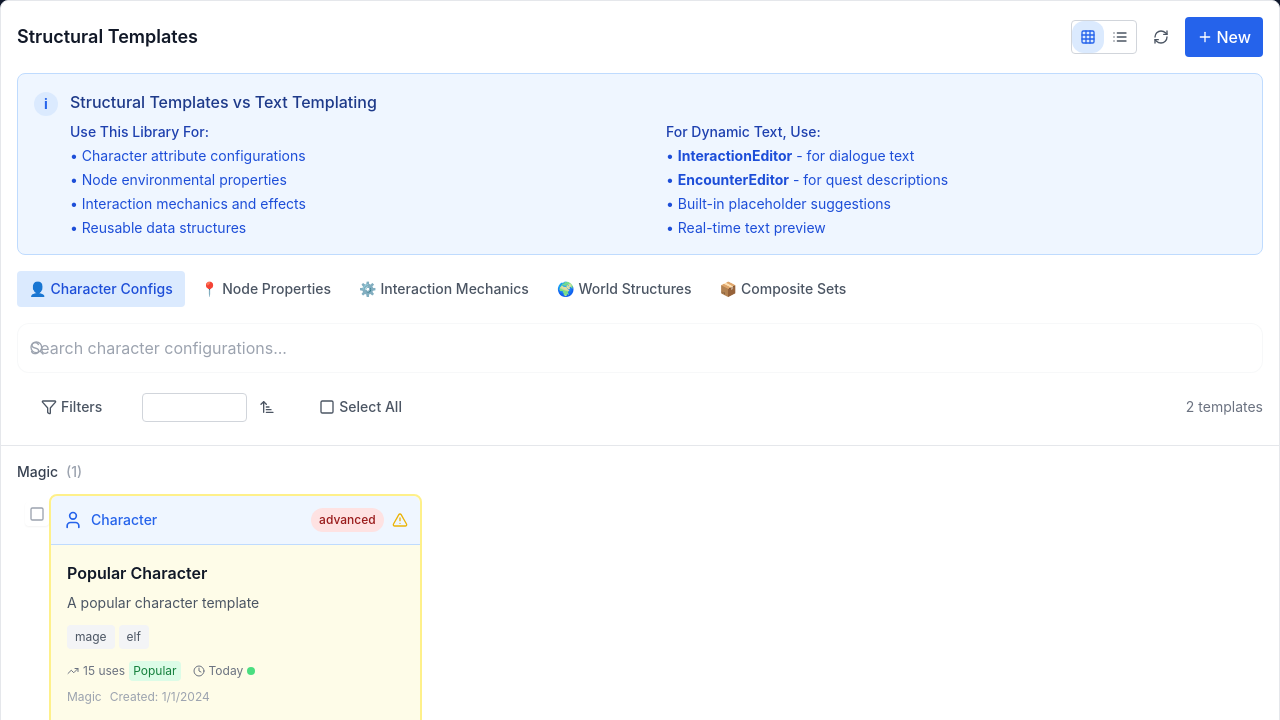
Scenario: TemplateLibraryPanel › shows bulk actions when templates are selected
Click the button "Select All".
click(361, 407)  # box [295, 385, 426, 429]
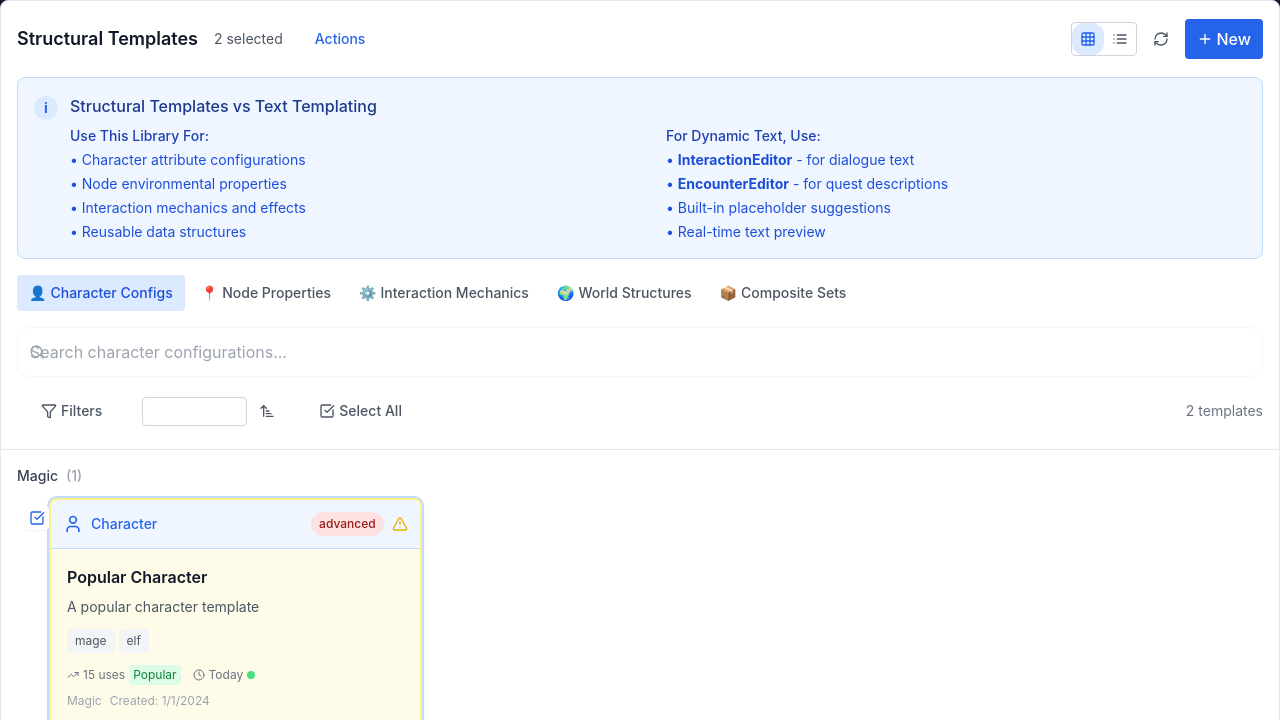
Click the button "Actions".
click(340, 39)  # box [291, 17, 389, 61]
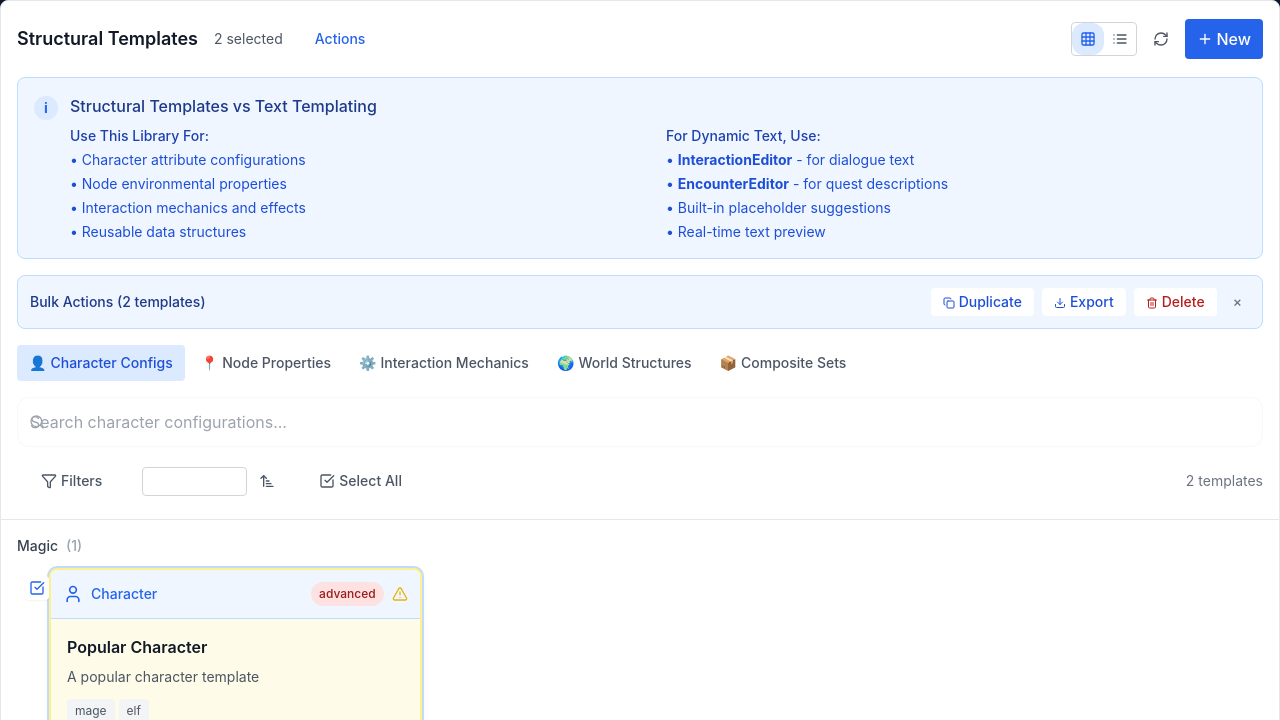
Check: the button "Duplicate" is shown, box [931, 288, 1034, 316]
Check: the button "Export" is shown, box [1042, 288, 1126, 316]
Check: the button "Delete" is shown, box [1134, 288, 1217, 316]
